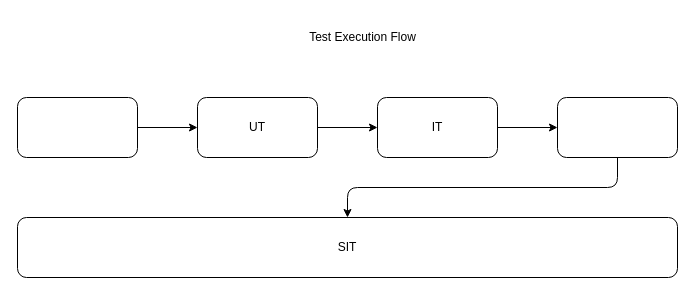
Some shapes in this 695 by 295 pixel diagram are drawn without their labels. The centre of each missing label's shape, as x and y in pixels:
"E2E-API" belongs at (x=617, y=127).
"PBT" belongs at (x=77, y=127).
